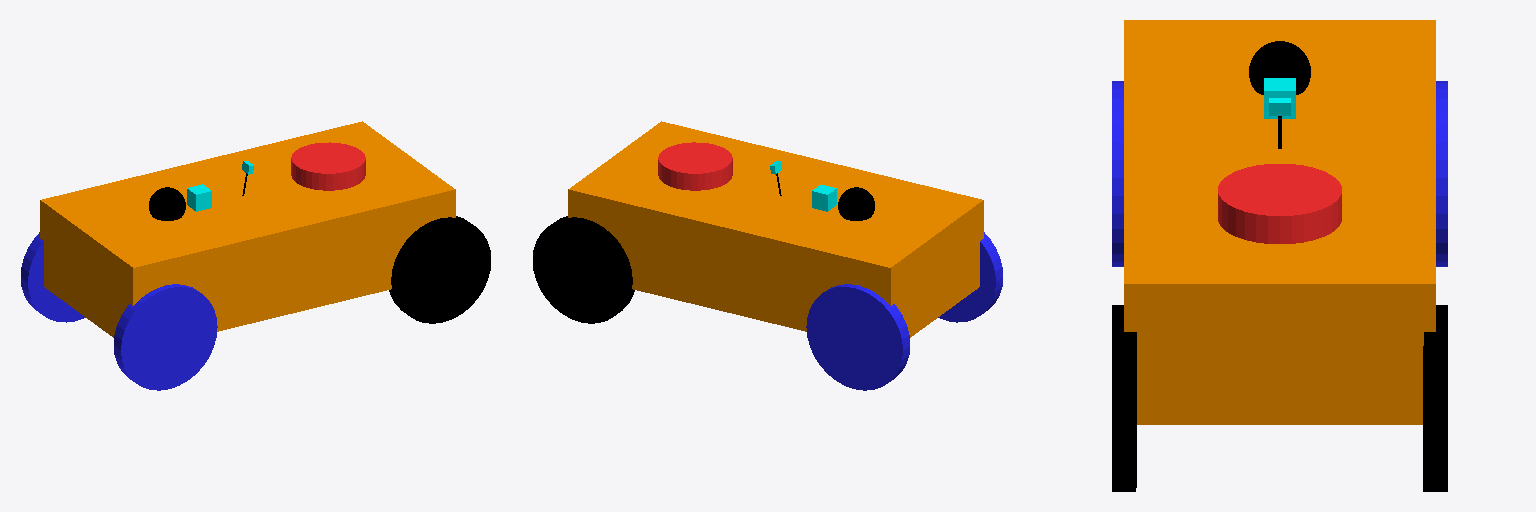
robot.urdf — ack_rover:
<?xml version="1.0" ?>
<!-- =================================================================================== -->
<!-- |    This document was autogenerated by xacro from ack_rover.xacro.urdf           | -->
<!-- |    EDITING THIS FILE BY HAND IS NOT RECOMMENDED                                 | -->
<!-- =================================================================================== -->
<robot name="ack_rover">
  <!-- Specify some standard inertial calculations https://en.wikipedia.org/wiki/List_of_moments_of_inertia -->
  <!-- These make use of xacro's mathematical functionality -->
  <!-- Gazebo tags -->
  <!-- Gazebo Colours -->
  <gazebo reference="chassis">
    <material>Gazebo/Orange</material>
  </gazebo>
  <gazebo reference="rear_left_wheel">
    <material>Gazebo/Blue</material>
  </gazebo>
  <gazebo reference="rear_right_wheel">
    <material>Gazebo/Blue</material>
  </gazebo>
  <gazebo reference="front_right_wheel">
    <material>Gazebo/Black</material>
  </gazebo>
  <gazebo reference="front_left_wheel">
    <material>Gazebo/Black</material>
  </gazebo>
  <gazebo reference="lidar_link">
    <material>Gazebo/Red</material>
  </gazebo>
  <!-- Initial Pose -->
  <gazebo>
    <pose>3.0 0.0 0.0 0 0 0</pose>
  </gazebo>
  <!-- GPS Gazebo Parameters -->
  <gazebo reference="gnss_link">
    <sensor name="GazeboNavSat" type="navsat">
      <always_on>1</always_on>
      <update_rate>25.0</update_rate>
      <visualize>true</visualize>
      <topic>gps/fix</topic>
      <ignition_frame_id>gnss_link</ignition_frame_id>
    </sensor>
  </gazebo>
  <!-- Camera Gazebo Parameters -->
  <gazebo reference="camera_link">
    <material>Gazebo/Black</material>
    <sensor name="camera" type="camera">
      <pose> 0 0 0 0 0 0 </pose>
      <visualize>true</visualize>
      <update_rate>10</update_rate>
      <topic>camera</topic>
      <camera>
        <horizontal_fov>1.089</horizontal_fov>
        <image>
          <format>R8G8B8</format>
          <width>640</width>
          <height>480</height>
        </image>
        <clip>
          <near>0.05</near>
          <far>8.0</far>
        </clip>
      </camera>
      <plugin filename="libgazebo_ros_camera.so" name="ignition::gazebo::systems::Camera">
        <ignition_frame_id>camera_link_optical</ignition_frame_id>
      </plugin>
    </sensor>
    <sensor name="depth_camera" type="rgbd_camera">
      <always_on>true</always_on>
      <visualize>true</visualize>
      <update_rate>5.0</update_rate>
      <topic>depth_camera</topic>
      <ignition_frame_id>camera_link</ignition_frame_id>
      <camera>
        <horizontal_fov>1.047198</horizontal_fov>
        <image>
          <width>640</width>
          <height>480</height>
        </image>
        <clip>
          <near>0.05</near>
          <far>3</far>
        </clip>
      </camera>
      <baseline>0.2</baseline>
      <pointCloudCutoff>0.5</pointCloudCutoff>
      <pointCloudCutoffMax>3.0</pointCloudCutoffMax>
      <distortionK1>0</distortionK1>
      <distortionK2>0</distortionK2>
      <distortionK3>0</distortionK3>
      <distortionT1>0</distortionT1>
      <distortionT2>0</distortionT2>
      <CxPrime>0</CxPrime>
      <Cx>0</Cx>
      <Cy>0</Cy>
      <focalLength>0</focalLength>
      <hackBaseline>0</hackBaseline>
    </sensor>
  </gazebo>
  <!-- Ackermann Controller -->
  <gazebo>
    <plugin filename="ign_ros2_control-system" name="ign_ros2_control::IgnitionROS2ControlPlugin">
      <parameters>[local-path]/Exodus2025/mobility_ctrl/install/nav2_stanley/share/nav2_stanley/config/ackermann_drive_controller.yaml</parameters>
      <ros>
        <remapping>/ackermann_steering_controller/tf_odometry:=/tf</remapping>
        <remapping>/ackermann_steering_controller/odometry:=/odom</remapping>
        <remapping>/ackermann_steering_controller/reference_unstamped:=/cmd_vel</remapping>
      </ros>
    </plugin>
    <plugin filename="gz-sim-joint-state-publisher-system" name="ignition::gazebo::systems::JointStatePublisher">
      <topic>joint_states</topic>
    </plugin>
  </gazebo>
  <!-- LiDAR -->
  <link name="laser_frame">
    <inertial>
      <origin rpy="0 0 0" xyz="0 0 0"/>
      <mass value="0.125"/>
      <inertia ixx="0.001" ixy="0" ixz="0" iyy="0.001" iyz="0" izz="0.001"/>
    </inertial>
    <collision>
      <origin rpy="0 0 0" xyz="0 0 0"/>
      <geometry>
        <cylinder length="0.055" radius="0.0508"/>
      </geometry>
    </collision>
    <visual>
      <origin rpy="0 0 0" xyz="0 0 0"/>
      <geometry>
        <cylinder length="0.1" radius="0.2"/>
      </geometry>
      <material name="Red"/>
    </visual>
  </link>
  <joint name="laser_joint" type="fixed">
    <parent link="chassis"/>
    <child link="laser_frame"/>
    <origin rpy="0 0 0" xyz="0.5 0 0.8"/>
  </joint>
  <!-- LiDAR -->
  <gazebo reference="laser_frame">
    <material>Gazebo/Red</material>
    <sensor name="lidar" type="gpu_lidar">
      <pose>0 0 0 0 0 0</pose>
      <always_on>true</always_on>
      <visualize>true</visualize>
      <update_rate>10</update_rate>
      <topic>scan</topic>
      <ignition_frame_id>laser_frame</ignition_frame_id>
      <ray>
        <scan>
          <horizontal>
            <samples>360</samples>
            <resolution>1.000000</resolution>
            <min_angle>-3.14</min_angle>
            <max_angle>3.14</max_angle>
          </horizontal>
        </scan>
        <range>
          <min>0.3</min>
          <max>12</max>
          <resolution>0.01</resolution>
        </range>
        <noise>
          <type>gaussian</type>
          <mean>0.0</mean>
          <stddev>0.01</stddev>
        </noise>
      </ray>
    </sensor>
  </gazebo>
  <!-- Colours -->
  <material name="Black">
    <color rgba="0 0 0 1"/>
  </material>
  <material name="Grey">
    <color rgba="0.8 0.8 0.8 1"/>
  </material>
  <material name="Orange">
    <color rgba="1 0.6 0 1"/>
  </material>
  <material name="White">
    <color rgba="1 1 1 1"/>
  </material>
  <material name="Blue">
    <color rgba="0.2 0.2 1 1"/>
  </material>
  <material name="Red">
    <color rgba="1 0.2 0.2 1"/>
  </material>
  <!-- Base Link -->
  <link name="base_link"/>
  <!-- Base_Footprint Link -->
  <joint name="base_footprint_joint" type="fixed">
    <parent link="base_link"/>
    <child link="base_footprint"/>
    <origin rpy="0 0 0" xyz="0 0 0"/>
  </joint>
  <link name="base_footprint">
    </link>
  <!-- Chassis -->
  <!-- Chassis Fixed Joint -->
  <joint name="chassis_joint" type="fixed">
    <origin rpy="0 0 0" xyz="0 0 0.5"/>
    <parent link="base_link"/>
    <child link="chassis"/>
  </joint>
  <!-- Chassis Link -->
  <link name="chassis">
    <visual>
      <origin rpy="0 0 0" xyz="0  0 0.5"/>
      <geometry>
        <box size="2 1 0.5"/>
      </geometry>
      <material name="Orange"/>
    </visual>
    <collision>
      <origin xyz="0 0 0.25"/>
      <geometry>
        <box size="2 1 0.5"/>
      </geometry>
    </collision>
    <inertial>
      <origin rpy="0 0 0" xyz="1.0 0 0.25"/>
      <mass value="0.5"/>
      <inertia ixx="0.05208333333333333" ixy="0.0" ixz="0.0" iyy="0.17708333333333331" iyz="0.0" izz="0.20833333333333331"/>
    </inertial>
  </link>
  <!-- Rear Wheels -->
  <!-- Rear Left Wheel Link -->
  <link name="rear_left_wheel">
    <collision>
      <geometry>
        <cylinder length="0.08" radius="0.3"/>
      </geometry>
    </collision>
    <visual>
      <geometry>
        <cylinder length="0.08" radius="0.3"/>
      </geometry>
      <material name="Blue"/>
    </visual>
    <inertial>
      <origin rpy="0 0 0" xyz="0 0 0"/>
      <mass value="11.3"/>
      <inertia ixx="0.26027666666666666" ixy="0.0" ixz="0.0" iyy="0.26027666666666666" iyz="0.0" izz="0.5085000000000001"/>
    </inertial>
  </link>
  <joint name="rear_left_wheel_joint" type="continuous">
    <origin rpy="-1.57 0 0" xyz="-0.8 0.5 0.3"/>
    <parent link="chassis"/>
    <child link="rear_left_wheel"/>
    <axis xyz="0 0 1"/>
    <dynamics damping="0.2"/>
  </joint>
  <!-- Rear Right Wheel Link -->
  <link name="rear_right_wheel">
    <collision>
      <geometry>
        <cylinder length="0.08" radius="0.3"/>
      </geometry>
    </collision>
    <visual>
      <geometry>
        <cylinder length="0.08" radius="0.3"/>
      </geometry>
      <material name="Blue"/>
    </visual>
    <inertial>
      <origin rpy="0 0 0" xyz="0 0 0"/>
      <mass value="11.3"/>
      <inertia ixx="0.26027666666666666" ixy="0.0" ixz="0.0" iyy="0.26027666666666666" iyz="0.0" izz="0.5085000000000001"/>
    </inertial>
  </link>
  <joint name="rear_right_wheel_joint" type="continuous">
    <origin rpy="-1.57 0 0" xyz="-0.8 -0.5 0.3"/>
    <parent link="chassis"/>
    <child link="rear_right_wheel"/>
    <axis xyz="0 0 1"/>
    <dynamics damping="0.2"/>
  </joint>
  <!-- Front Wheels -->
  <!-- Left Steering Link -->
  <link name="left_wheel_steering">
    <inertial>
      <mass value="0.1"/>
      <inertia ixx="0" ixy="0.0" ixz="0.0" iyy="0.0" iyz="0.0" izz="0.0"/>
    </inertial>
  </link>
  <joint name="left_wheel_steering_joint" type="revolute">
    <origin rpy="1.57 0 0" xyz="0.9 -0.5 0.3"/>
    <parent link="chassis"/>
    <child link="left_wheel_steering"/>
    <axis xyz="0 1 0"/>
    <dynamics damping="0.2"/>
    <limit effort="1000.0" lower="-1.57" upper="1.57" velocity="30"/>
  </joint>
  <!-- Right Steering Link -->
  <link name="right_wheel_steering">
    <inertial>
      <mass value="0.1"/>
      <inertia ixx="0" ixy="0.0" ixz="0.0" iyy="0.0" iyz="0.0" izz="0.0"/>
    </inertial>
  </link>
  <joint name="right_wheel_steering_joint" type="revolute">
    <origin rpy="1.57 0 0" xyz="0.9 0.5 0.3"/>
    <parent link="chassis"/>
    <child link="right_wheel_steering"/>
    <axis xyz="0 1 0"/>
    <dynamics damping="0.2"/>
    <limit effort="1000.0" lower="-1.57" upper="1.57" velocity="30"/>
  </joint>
  <!-- Front Left Wheel Link -->
  <link name="front_left_wheel">
    <collision>
      <geometry>
        <cylinder length="0.08" radius="0.3"/>
      </geometry>
    </collision>
    <visual>
      <geometry>
        <cylinder length="0.08" radius="0.3"/>
      </geometry>
      <material name="Black"/>
    </visual>
    <inertial>
      <origin rpy="0 0 0" xyz="0 0 0"/>
      <mass value="11.3"/>
      <inertia ixx="0.26027666666666666" ixy="0.0" ixz="0.0" iyy="0.26027666666666666" iyz="0.0" izz="0.5085000000000001"/>
    </inertial>
  </link>
  <joint name="front_left_wheel_joint" type="continuous">
    <origin rpy="0 0 0" xyz="0 0 0"/>
    <parent link="left_wheel_steering"/>
    <child link="front_left_wheel"/>
    <axis xyz="0 0 1"/>
    <dynamics damping="0.2"/>
  </joint>
  <!-- Front Right Wheel Link -->
  <link name="front_right_wheel">
    <collision>
      <geometry>
        <cylinder length="0.08" radius="0.3"/>
      </geometry>
    </collision>
    <visual>
      <geometry>
        <cylinder length="0.08" radius="0.3"/>
      </geometry>
      <material name="Black"/>
    </visual>
    <inertial>
      <origin rpy="0 0 0" xyz="0 0 0"/>
      <mass value="11.3"/>
      <inertia ixx="0.26027666666666666" ixy="0.0" ixz="0.0" iyy="0.26027666666666666" iyz="0.0" izz="0.5085000000000001"/>
    </inertial>
  </link>
  <joint name="front_right_wheel_joint" type="continuous">
    <origin rpy="0 0 0" xyz="0 0 0"/>
    <parent link="right_wheel_steering"/>
    <child link="front_right_wheel"/>
    <axis xyz="0 0 1"/>
    <dynamics damping="0.2"/>
  </joint>
  <!-- IMU -->
  <link name="imu_link">
    <visual>
      <geometry>
        <box size="0.1 0.1 0.1"/>
      </geometry>
      <material name="Cyan">
        <color rgba="0 1.0 1.0 1.0"/>
      </material>
    </visual>
    <collision>
      <geometry>
        <box size="0.1 0.1 0.1"/>
      </geometry>
    </collision>
    <inertial>
      <mass value="0.1"/>
      <inertia ixx="0.145833" ixy="0.0" ixz="0.0" iyy="0.145833" iyz="0.0" izz="0.125"/>
    </inertial>
  </link>
  <joint name="imu_joint" type="fixed">
    <parent link="chassis"/>
    <child link="imu_link"/>
    <origin xyz="-0.3 0 0.8"/>
  </joint>
  <gazebo reference="imu_link">
    <sensor name="imu_sensor" type="imu">
      <plugin filename="libignition-gazebo-imu-system.so" name="ignition::gazebo::systems::Imu">
        <initial_orientation_as_reference>false</initial_orientation_as_reference>
      </plugin>
      <always_on>true</always_on>
      <update_rate>100</update_rate>
      <visualize>true</visualize>
      <topic>/imu</topic>
      <enable_metrics>true</enable_metrics>
      <frame_id>imu_link</frame_id>
      <ignition_frame_id>imu_link</ignition_frame_id>
      <imu>
        <orientation_reference_frame>
          <localization>ENU</localization>
        </orientation_reference_frame>
        <angular_velocity>
          <x>
            <noise type="gaussian">
              <mean>0.0</mean>
              <stddev>2e-4</stddev>
              <bias_mean>0.0000075</bias_mean>
              <bias_stddev>0.0000008</bias_stddev>
            </noise>
          </x>
          <y>
            <noise type="gaussian">
              <mean>0.0</mean>
              <stddev>2e-4</stddev>
              <bias_mean>0.0000075</bias_mean>
              <bias_stddev>0.0000008</bias_stddev>
            </noise>
          </y>
          <z>
            <noise type="gaussian">
              <mean>0.0</mean>
              <stddev>2e-4</stddev>
              <bias_mean>0.0000075</bias_mean>
              <bias_stddev>0.0000008</bias_stddev>
            </noise>
          </z>
        </angular_velocity>
        <linear_acceleration>
          <x>
            <noise type="gaussian">
              <mean>0.0</mean>
              <stddev>1.7e-2</stddev>
              <bias_mean>0.1</bias_mean>
              <bias_stddev>0.001</bias_stddev>
            </noise>
          </x>
          <y>
            <noise type="gaussian">
              <mean>0.0</mean>
              <stddev>1.7e-2</stddev>
              <bias_mean>0.1</bias_mean>
              <bias_stddev>0.001</bias_stddev>
            </noise>
          </y>
          <z>
            <noise type="gaussian">
              <mean>0.0</mean>
              <stddev>1.7e-2</stddev>
              <bias_mean>0.1</bias_mean>
              <bias_stddev>0.001</bias_stddev>
            </noise>
          </z>
        </linear_acceleration>
      </imu>
    </sensor>
  </gazebo>
  <!-- GPS -->
  <joint name="gnss_joint" type="fixed">
    <origin rpy="0 0 0" xyz="-0.5 0 0.8"/>
    <parent link="chassis"/>
    <child link="gnss_link"/>
  </joint>
  <link name="gnss_link">
    <collision>
      <geometry>
        <sphere radius="0.1"/>
      </geometry>
    </collision>
    <visual>
      <geometry>
        <sphere radius="0.1"/>
      </geometry>
      <material name="Black"/>
    </visual>
    <inertial>
      <origin rpy="0.3 1.6 -0.4" xyz="-0.5 0 0.8"/>
      <mass value="0.1"/>
      <inertia ixx="0.1" ixy="0.0" ixz="0.0" iyy="0.1" iyz="0.0" izz="0.1"/>
    </inertial>
  </link>
  <!-- Camera -->
  <joint name="camera_joint" type="fixed">
    <parent link="chassis"/>
    <child link="camera_link"/>
    <origin rpy="0 0.18 0" xyz="0 0 0.91"/>
  </joint>
  <link name="camera_link">
    <visual>
      <geometry>
        <box size="0.03 0.07 0.05"/>
      </geometry>
      <material name="Cyan"/>
    </visual>
    <visual>
      <origin xyz="0 0 -0.1"/>
      <geometry>
        <cylinder length="0.2" radius="0.005"/>
      </geometry>
      <material name="Black"/>
    </visual>
  </link>
  <joint name="camera_optical_joint" type="fixed">
    <parent link="camera_link"/>
    <child link="camera_link_optical"/>
    <origin rpy="-1.5707963267948966 0 -1.5707963267948966" xyz="0 0 0"/>
  </joint>
  <link name="camera_link_optical"/>
  <!-- Ackermann Control -->
  <ros2_control name="IgnitionSystem" type="system">
    <hardware>
      <plugin>ign_ros2_control/IgnitionSystem</plugin>
    </hardware>
    <joint name="rear_left_wheel_joint">
      <command_interface name="velocity"/>
      <state_interface name="velocity"/>
      <state_interface name="position"/>
    </joint>
    <joint name="rear_right_wheel_joint">
      <command_interface name="velocity"/>
      <state_interface name="velocity"/>
      <state_interface name="position"/>
    </joint>
    <joint name="left_wheel_steering_joint">
      <!-- <command_interface name="velocity" /> -->
      <command_interface name="position"/>
      <state_interface name="position"/>
    </joint>
    <joint name="right_wheel_steering_joint">
      <!-- <command_interface name="velocity" /> -->
      <command_interface name="position"/>
      <state_interface name="position"/>
    </joint>
  </ros2_control>
</robot>

--- Render facts (derived) ---
Views: 3 orthographic renders of the robot side by side, from view 1: azimuth 30°, elevation 25°; view 2: azimuth 150°, elevation 25°; view 3: azimuth 270°, elevation 25°.
Robot: ack_rover — 14 links, 13 joints (2 revolute, 4 continuous, 7 fixed); root link base_link; default pose: every joint at zero.
Links seen in each view (by area): view 1: chassis, rear_right_wheel, front_left_wheel, laser_frame, rear_left_wheel, gnss_link, imu_link; view 2: chassis, rear_left_wheel, front_right_wheel, laser_frame, rear_right_wheel, gnss_link, imu_link; view 3: chassis, laser_frame, front_left_wheel, front_right_wheel, gnss_link, rear_left_wheel, rear_right_wheel, imu_link, camera_link.
Boxes of the visible links, x1,y1,x2,y2 form: chassis: (40, 121, 455, 337); rear_right_wheel: (114, 284, 217, 390); front_left_wheel: (389, 216, 490, 323); laser_frame: (291, 142, 365, 190); rear_left_wheel: (21, 232, 85, 322); gnss_link: (149, 187, 185, 220); imu_link: (187, 184, 211, 211); chassis: (568, 121, 983, 337); rear_left_wheel: (806, 284, 909, 390); front_right_wheel: (533, 216, 634, 323); laser_frame: (658, 142, 732, 190); rear_right_wheel: (938, 232, 1002, 322); gnss_link: (838, 187, 874, 220); imu_link: (812, 184, 836, 211); chassis: (1124, 20, 1435, 424); laser_frame: (1218, 164, 1341, 243); front_left_wheel: (1112, 305, 1136, 491); front_right_wheel: (1423, 305, 1447, 491); gnss_link: (1249, 41, 1310, 94); rear_left_wheel: (1436, 81, 1447, 266); rear_right_wheel: (1112, 81, 1123, 266); imu_link: (1264, 78, 1295, 118); camera_link: (1269, 98, 1290, 148).
Size in the robot's own frame: 2.3 by 1.08 by 0.9373 metres.
Geometry: primitives only (box / cylinder / sphere), no mesh files.
